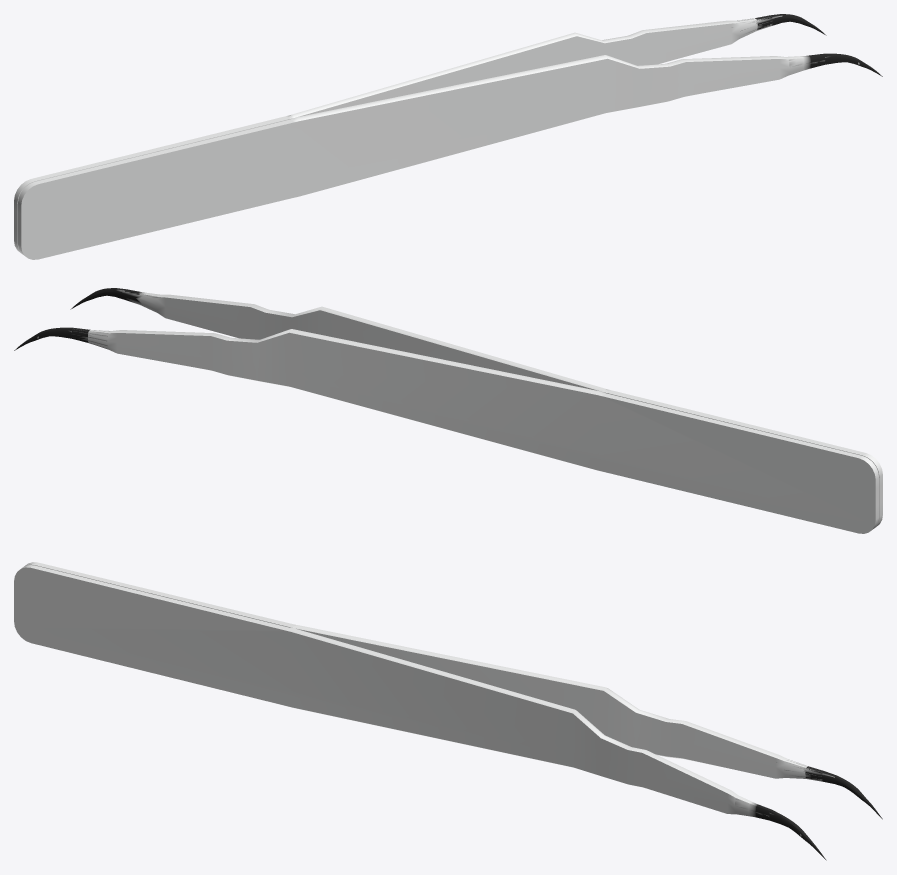
Rendered from forceps.fbx.
The picture shows the model from 3 angles, top to bottom: view 1: azimuth 30°, elevation 25°; view 2: azimuth 150°, elevation 25°; view 3: azimuth 330°, elevation 25°; orthographic projection.
Visible parts, largest first — view 1: forcep1; view 2: forcep1; view 3: forcep1.
Part boxes in pixels (x1,y1,x2,y2): forcep1: (14, 14, 882, 259); forcep1: (14, 288, 882, 533); forcep1: (14, 562, 882, 860).
Size of the model in its own units: 29.53 by 2.69 by 3.55.
